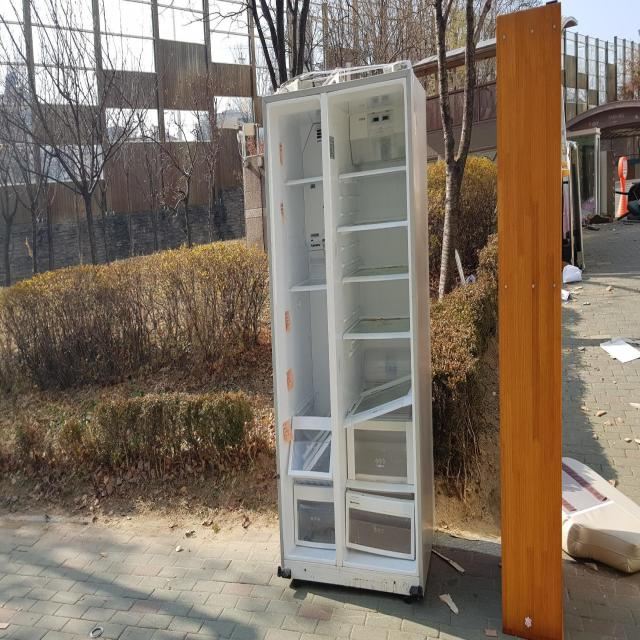refrigerator: (261, 61, 435, 604)
